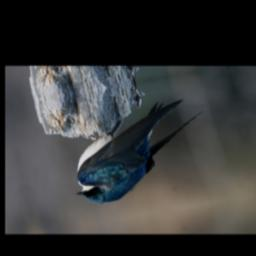Swallow: (59, 95, 221, 208)
